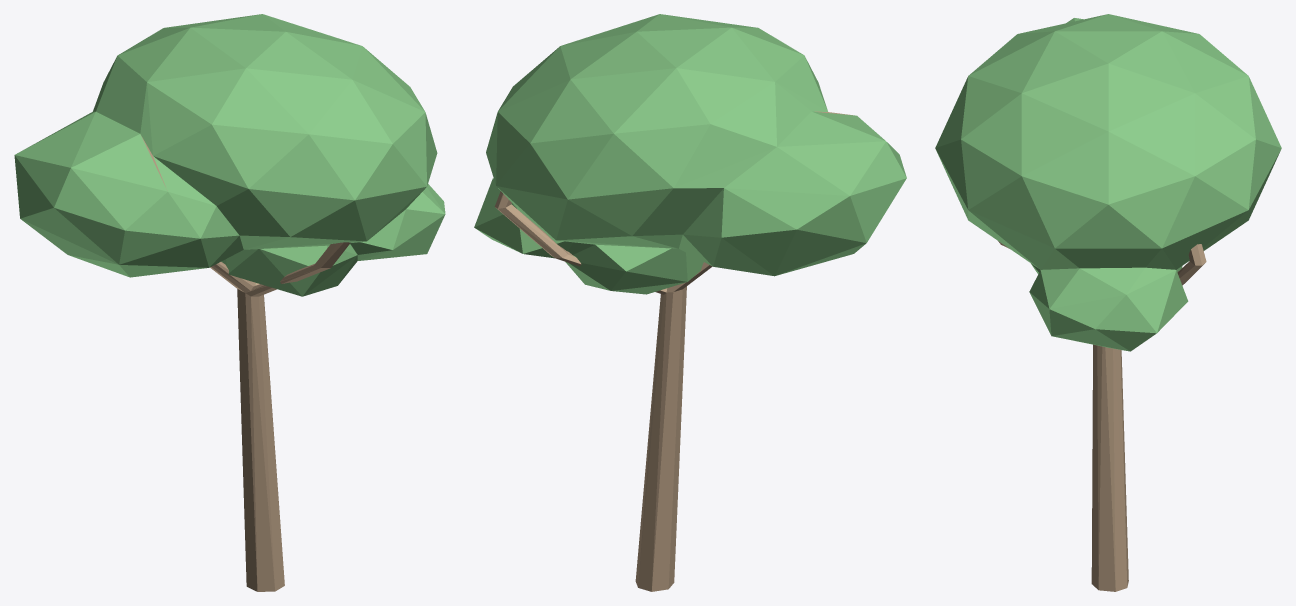
Rendered from tree25.fbx.
3 renders of one model, left to right at view 1: azimuth 30°, elevation 25°; view 2: azimuth 150°, elevation 25°; view 3: azimuth 270°, elevation 25°, orthographic. The views are drawn at different scales.
Visible parts, largest first — view 1: treetype25; view 2: treetype25; view 3: treetype25.
Part boxes in pixels (x1,y1,x2,y2): treetype25: (14, 14, 445, 591); treetype25: (474, 14, 906, 591); treetype25: (935, 14, 1281, 591).
Size of the model in its own units: 157 by 204 by 121.
